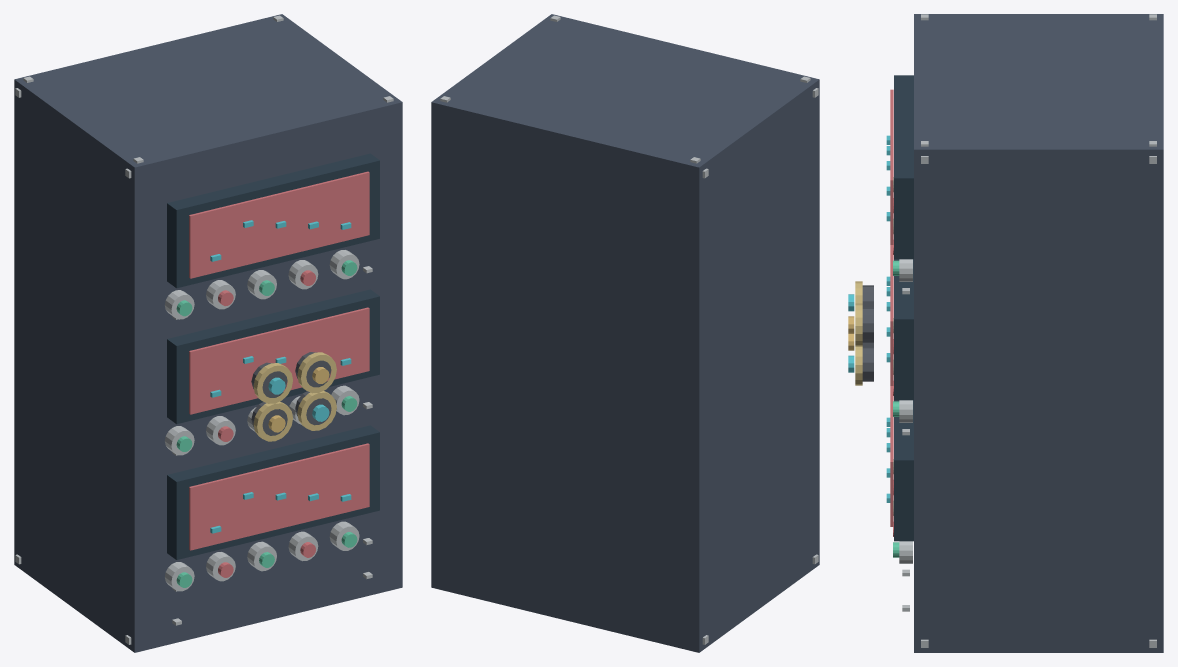
File: 48_L82_RFImmunitySafetyPLC.glb
3 views of the same model, side by side, from view 1: azimuth 30°, elevation 25°; view 2: azimuth 150°, elevation 25°; view 3: azimuth 270°, elevation 25° (orthographic). The views are drawn at different scales.
Parts seen in each view (by area): view 1: RFImmunitySafetyPLC_Node_0000, RFImmunitySafetyPLC_Node_0044, RFImmunitySafetyPLC_Node_0010, RFImmunitySafetyPLC_Node_0027, RFImmunitySafetyPLC_Node_0009, RFImmunitySafetyPLC_Node_0043, RFImmunitySafetyPLC_Node_0026, RFImmunitySafetyPLC_Node_0096, RFImmunitySafetyPLC_Node_0093, RFImmunitySafetyPLC_Node_0087, RFImmunitySafetyPLC_Node_0090; view 2: RFImmunitySafetyPLC_Node_0000; view 3: RFImmunitySafetyPLC_Node_0000, RFImmunitySafetyPLC_Node_0009, RFImmunitySafetyPLC_Node_0026, RFImmunitySafetyPLC_Node_0043, RFImmunitySafetyPLC_Node_0010, RFImmunitySafetyPLC_Node_0027, RFImmunitySafetyPLC_Node_0044.
Part boxes in pixels (x1=…): RFImmunitySafetyPLC_Node_0000: x1=14, y1=14, x2=402, y2=652; RFImmunitySafetyPLC_Node_0044: x1=189, y1=443, x2=369, y2=550; RFImmunitySafetyPLC_Node_0010: x1=189, y1=171, x2=369, y2=278; RFImmunitySafetyPLC_Node_0027: x1=189, y1=307, x2=369, y2=414; RFImmunitySafetyPLC_Node_0009: x1=167, y1=153, x2=379, y2=288; RFImmunitySafetyPLC_Node_0043: x1=167, y1=425, x2=379, y2=559; RFImmunitySafetyPLC_Node_0026: x1=167, y1=289, x2=379, y2=424; RFImmunitySafetyPLC_Node_0096: x1=297, y1=352, x2=336, y2=393; RFImmunitySafetyPLC_Node_0093: x1=253, y1=363, x2=292, y2=403; RFImmunitySafetyPLC_Node_0087: x1=253, y1=401, x2=292, y2=441; RFImmunitySafetyPLC_Node_0090: x1=297, y1=391, x2=336, y2=430; RFImmunitySafetyPLC_Node_0000: x1=431, y1=14, x2=819, y2=652; RFImmunitySafetyPLC_Node_0000: x1=914, y1=14, x2=1163, y2=652; RFImmunitySafetyPLC_Node_0009: x1=894, y1=75, x2=913, y2=259; RFImmunitySafetyPLC_Node_0026: x1=894, y1=259, x2=913, y2=400; RFImmunitySafetyPLC_Node_0043: x1=894, y1=400, x2=913, y2=541; RFImmunitySafetyPLC_Node_0010: x1=890, y1=89, x2=893, y2=244; RFImmunitySafetyPLC_Node_0027: x1=890, y1=245, x2=893, y2=385; RFImmunitySafetyPLC_Node_0044: x1=890, y1=386, x2=893, y2=526.
Size of the model in its own units: 1.06 by 1.82 by 1.02.
